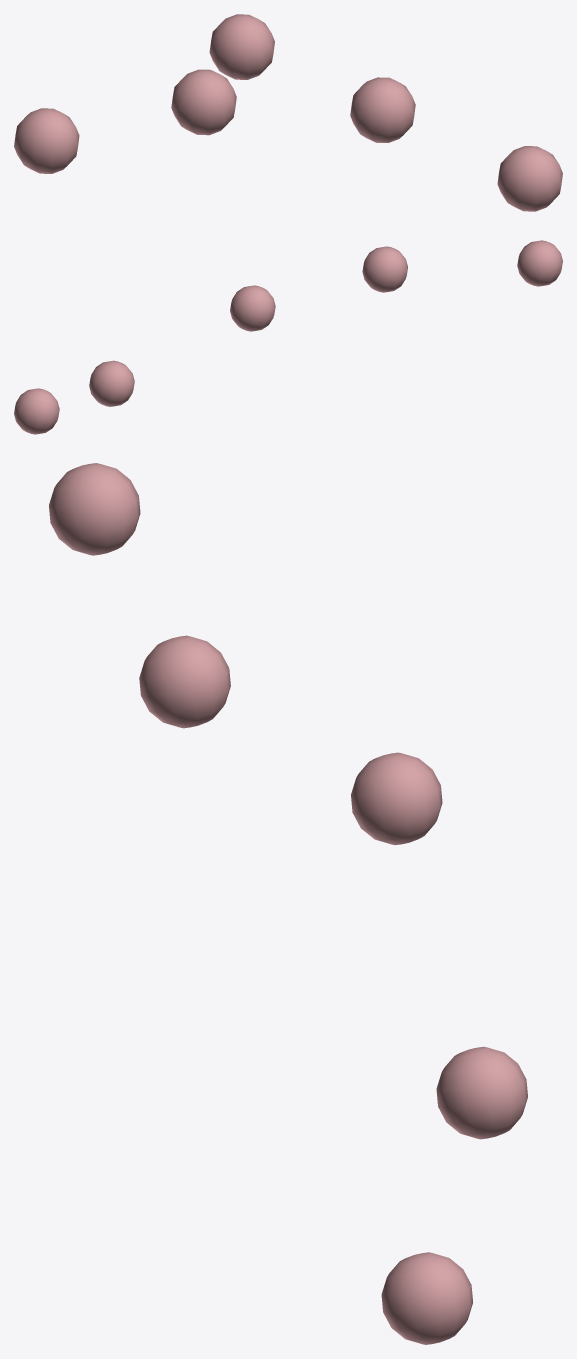
3 renders of one model, top to bottom at view 1: azimuth 30°, elevation 25°; view 2: azimuth 150°, elevation 25°; view 3: azimuth 270°, elevation 25°, orthographic. The views are drawn at different scales.
Visible parts, largest first — view 1: ZA_567114ecb48e33ac; view 2: ZA_567114ecb48e33ac; view 3: ZA_567114ecb48e33ac.
Boxes of the visible parts, bbox=[...] form: ZA_567114ecb48e33ac: bbox=[14, 14, 562, 211]; ZA_567114ecb48e33ac: bbox=[14, 240, 562, 434]; ZA_567114ecb48e33ac: bbox=[49, 463, 527, 1344].
Bounding box in the file's own units: 0.0297 × 0.0143 × 0.0134.
